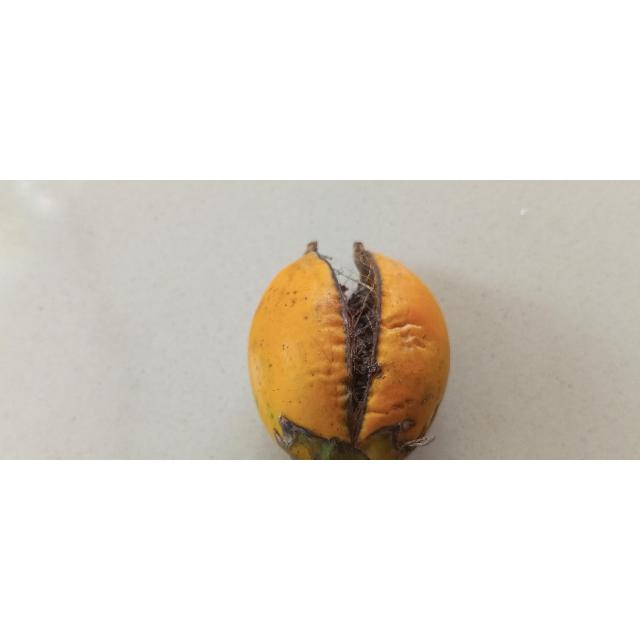damaged: (248, 242, 450, 461)
